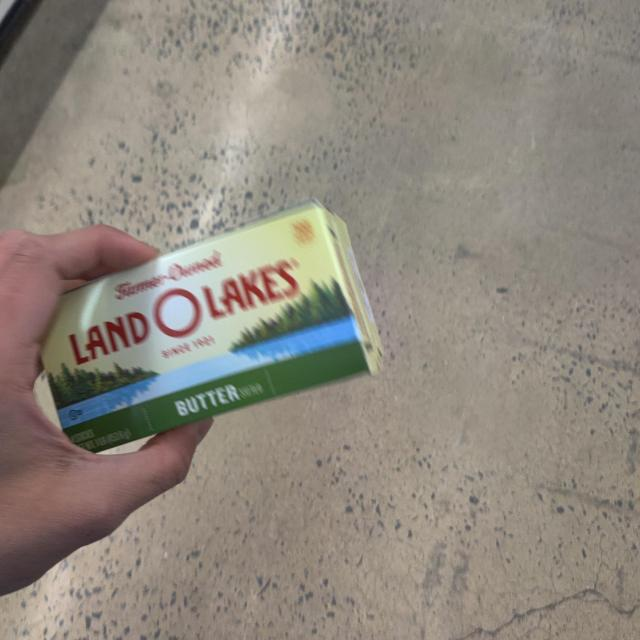Butter: (18, 192, 407, 477)
